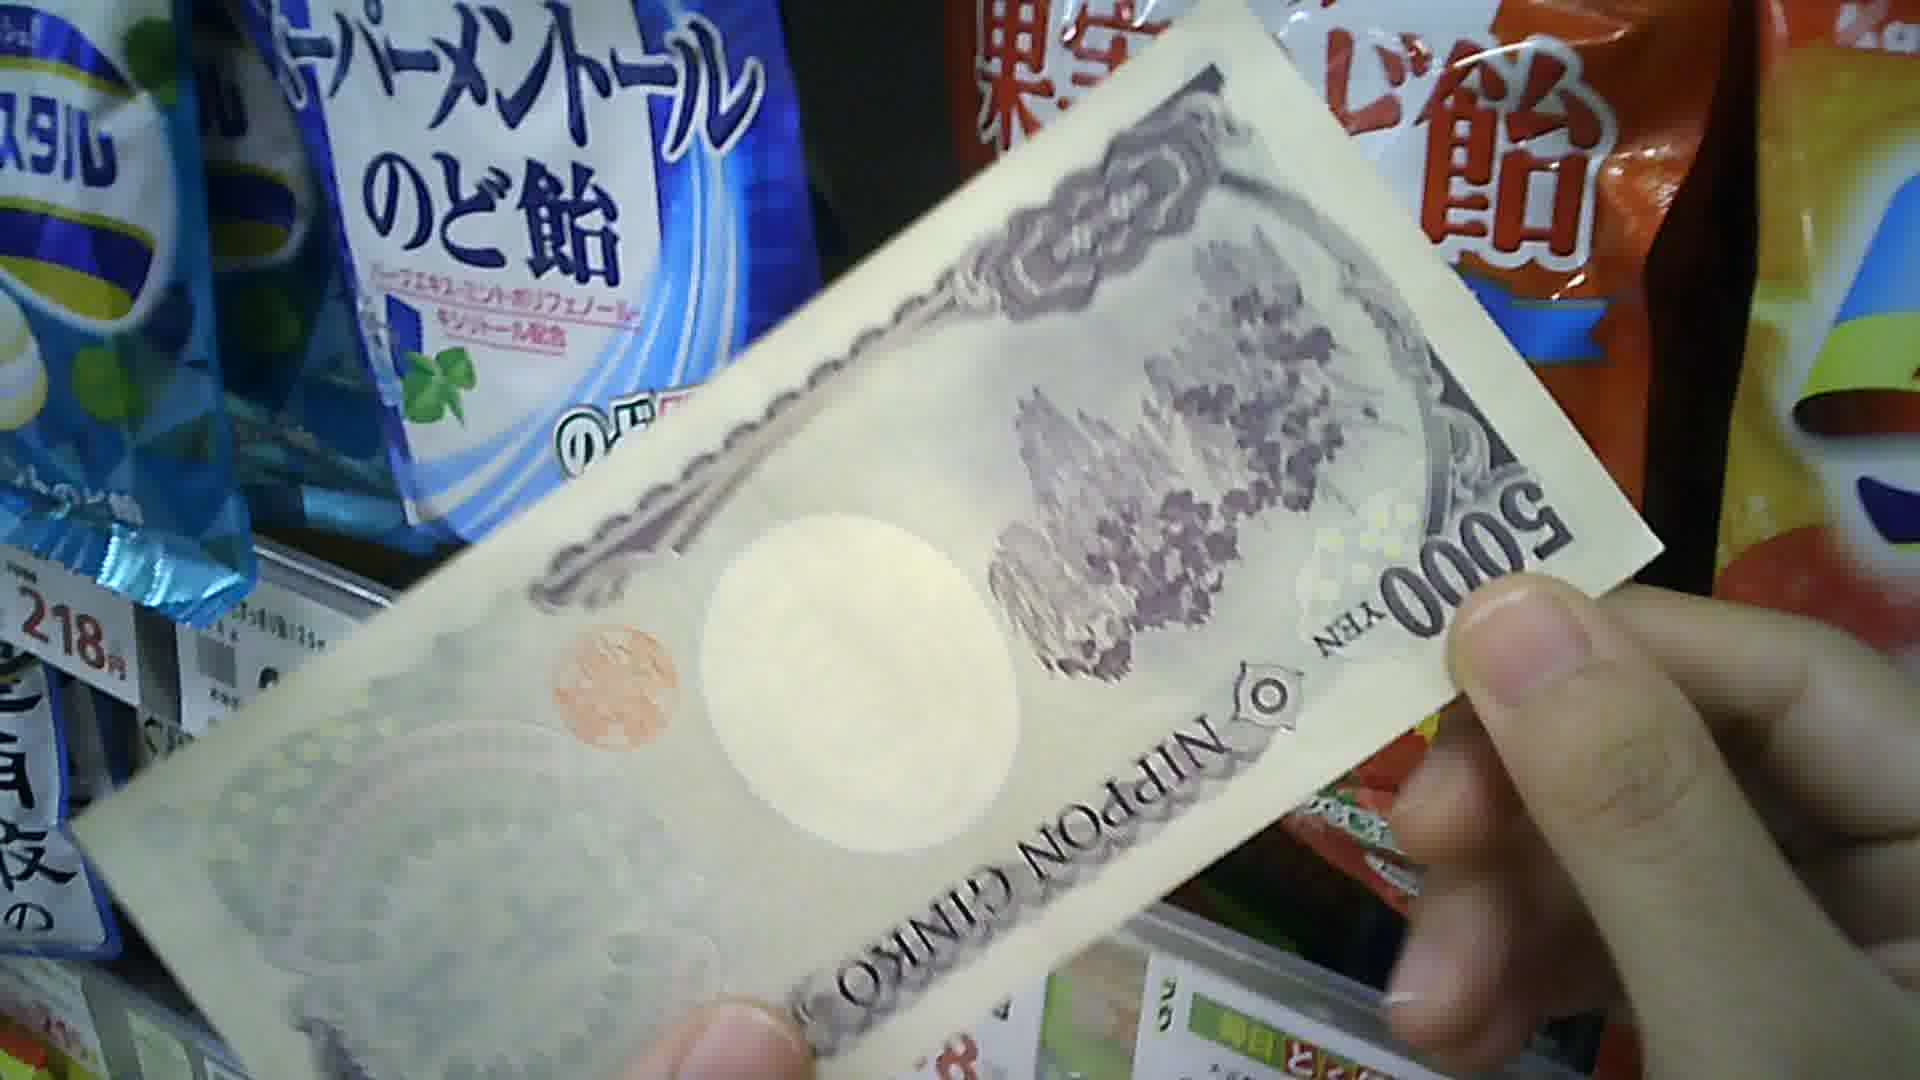5,000 Yen: (80, 17, 1604, 1079)
